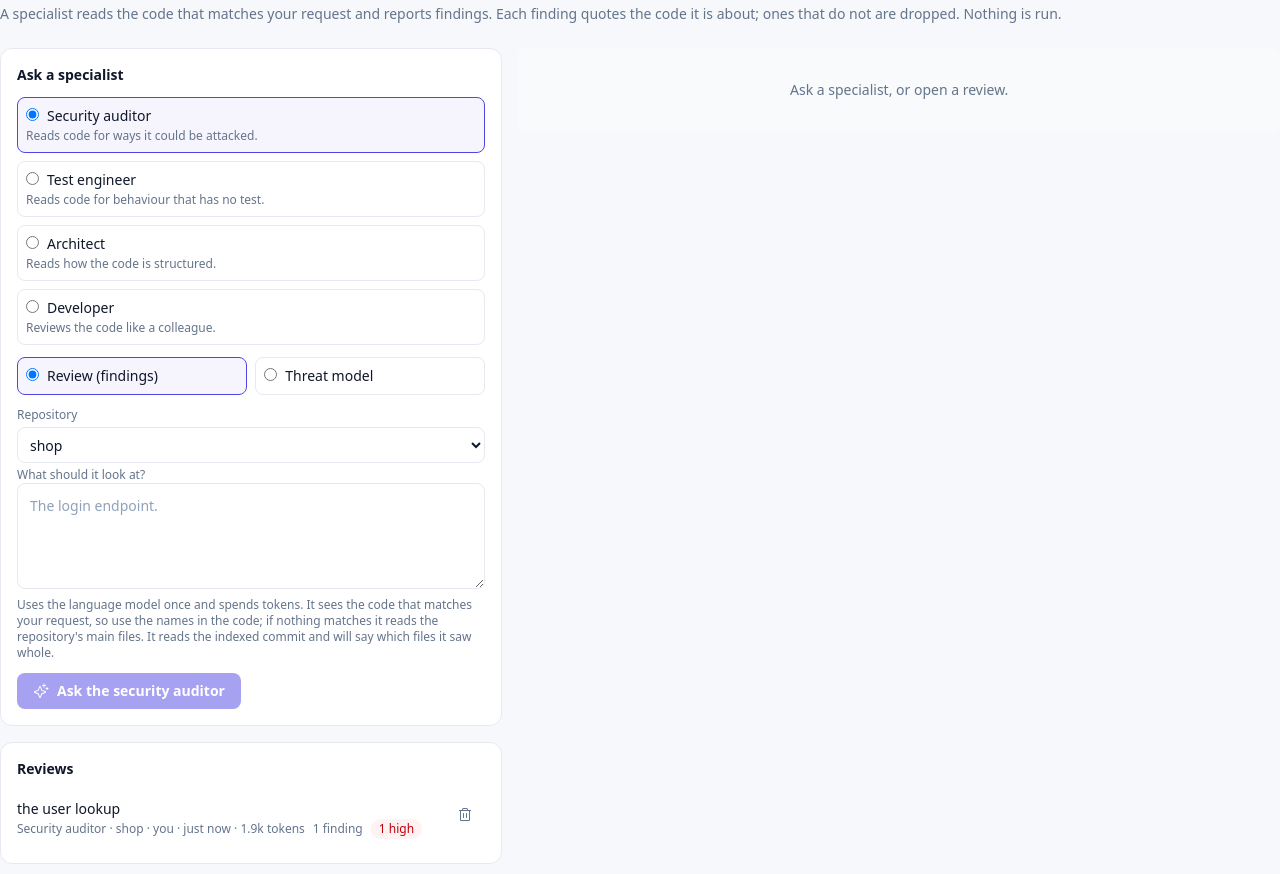
Test: Agent personas › shows the design: high-level and low-level text, components and flows with their files, the diagram, and what it could not tell
The image size is (1280, 874).
Click the button "the user lookup" at (229, 819), box [17, 791, 441, 847]
(page scrolled)
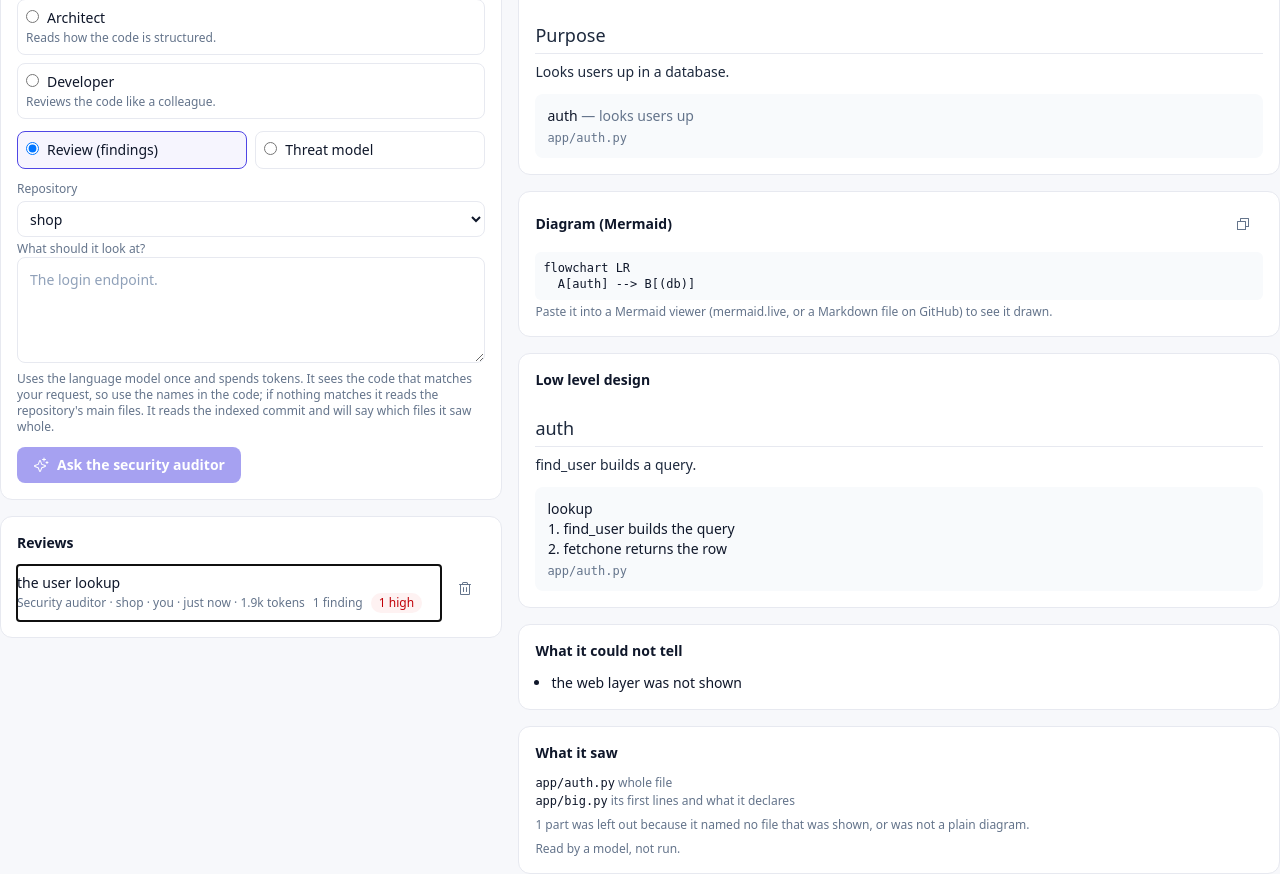
Expected: the element labelled "High level design" shows "Looks users up in a database.", [535, 62, 729, 81]
Expected: the list named "Components" shows "auth — looks users up", [535, 94, 1263, 158]
Expected: the element labelled "Diagram" shows "flowchart LR", [543, 261, 695, 291]
